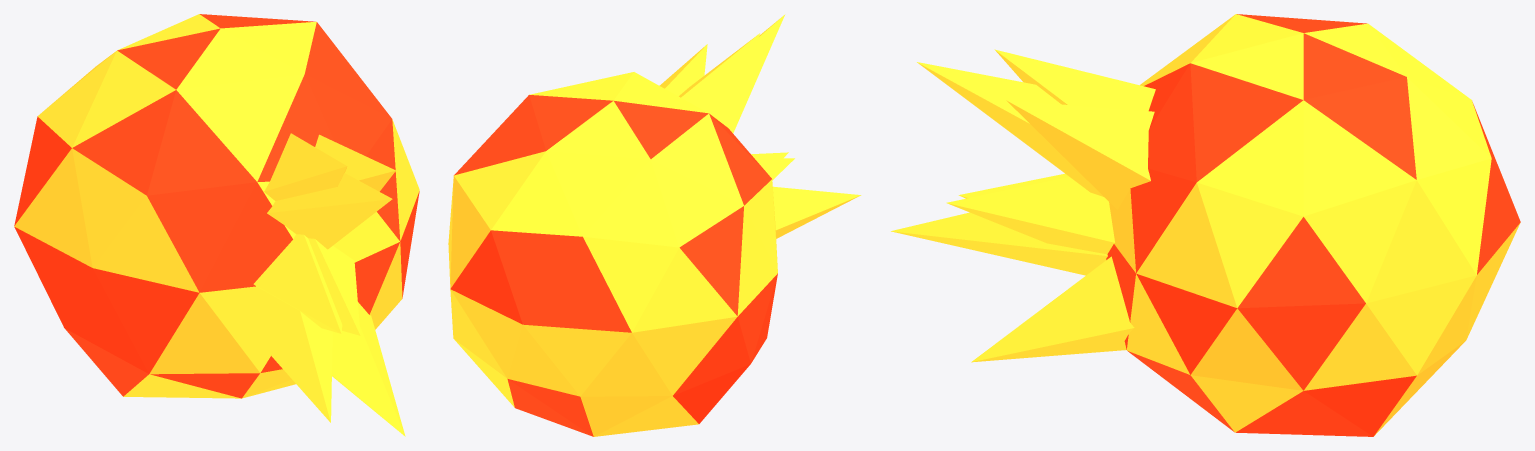
The model's file is W2_EmberOrb.fbx.
3 renders of one model, left to right at view 1: azimuth 30°, elevation 25°; view 2: azimuth 150°, elevation 25°; view 3: azimuth 270°, elevation 25°, orthographic. The views are drawn at different scales.
Parts seen in each view (by area): view 1: W2_EmberOrb; view 2: W2_EmberOrb; view 3: W2_EmberOrb.
Boxes of the visible parts, box(x1,y1,x2,y2) form: W2_EmberOrb: box(14, 14, 419, 436); W2_EmberOrb: box(448, 14, 861, 436); W2_EmberOrb: box(891, 14, 1520, 436).
Size of the model in its own units: 13.22 by 13.4 by 20.07.
